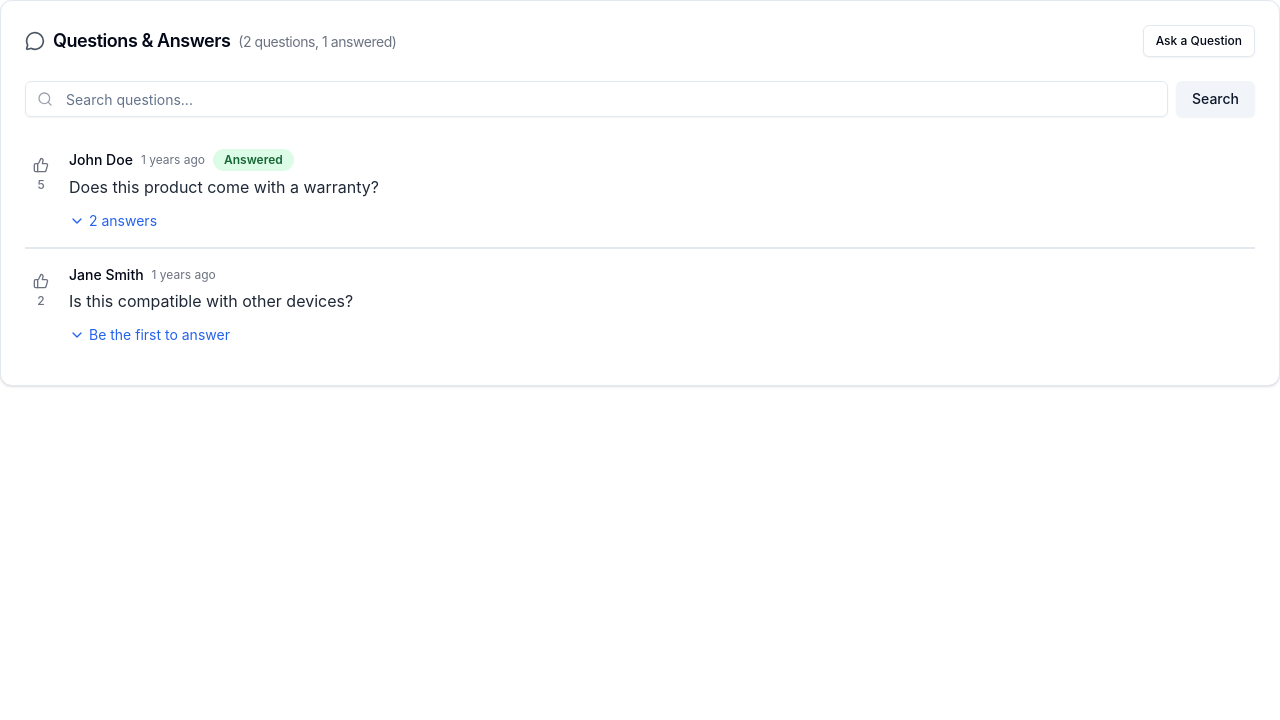
ProductQA › Ask Question › should show question form when button is clicked
The image size is (1280, 720).
Expected: the element with test id "product-qa-section" is shown, [0, 0, 1279, 386]
Click the button "Ask a Question" at {"x": 1199, "y": 41}, box [1143, 25, 1255, 57]
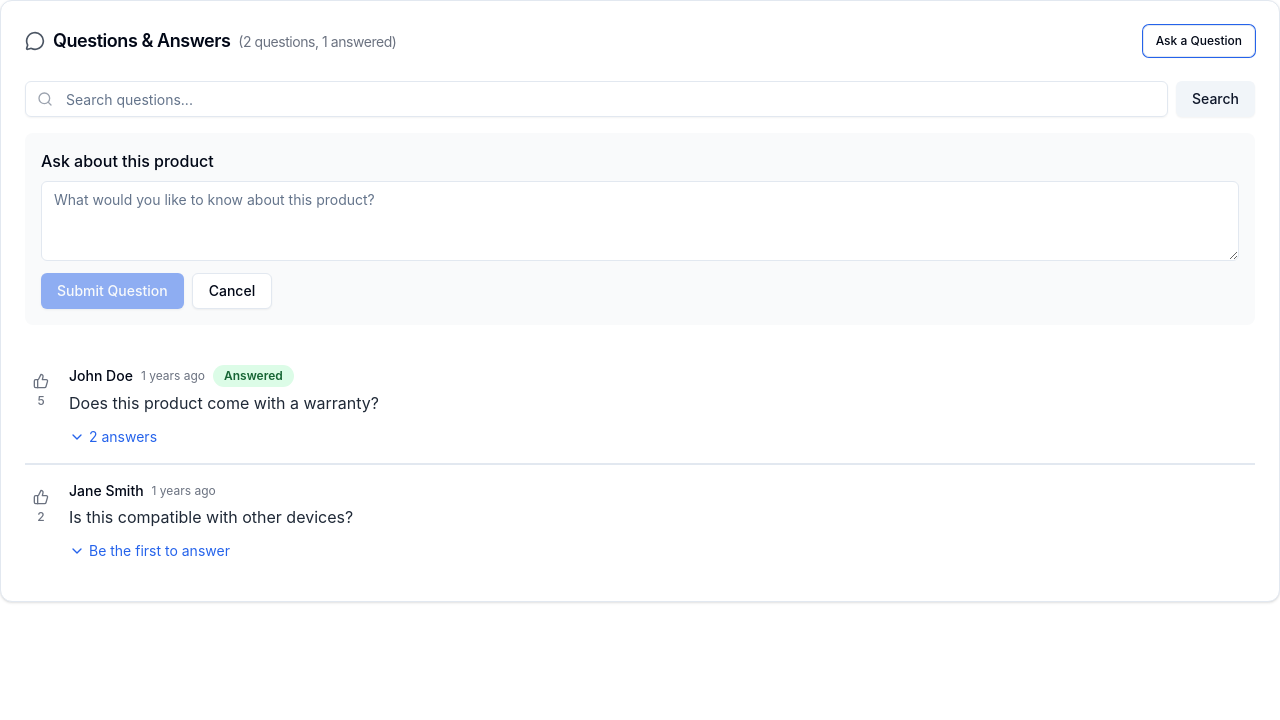
Now the text box with placeholder "What would you like to know about this product?" is shown, box [41, 181, 1239, 261]
